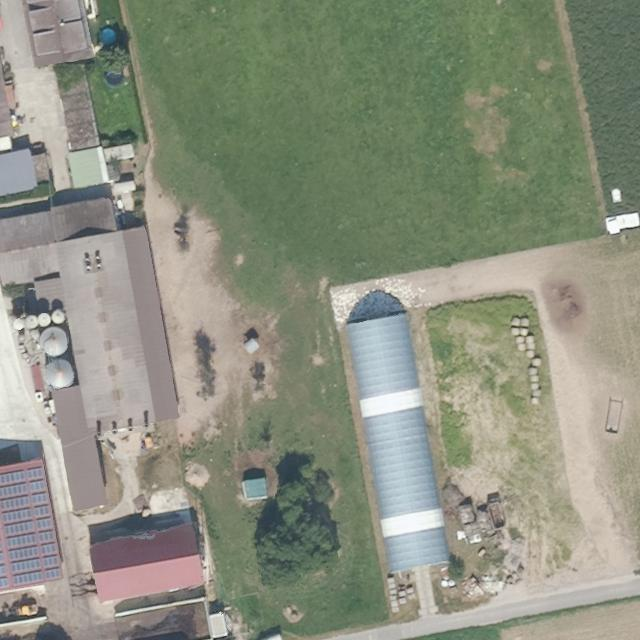PV: (3, 520, 36, 539), (9, 557, 43, 575), (6, 545, 42, 562), (1, 495, 33, 514), (2, 507, 34, 525), (11, 571, 44, 587), (5, 534, 38, 549), (1, 483, 30, 500), (1, 469, 27, 486), (42, 554, 61, 570), (39, 542, 59, 556), (35, 517, 55, 531), (32, 504, 52, 518), (30, 491, 50, 505), (43, 567, 64, 580), (26, 466, 44, 481), (37, 530, 56, 544), (29, 479, 47, 493), (1, 577, 10, 588), (1, 564, 8, 577), (1, 552, 5, 562)
